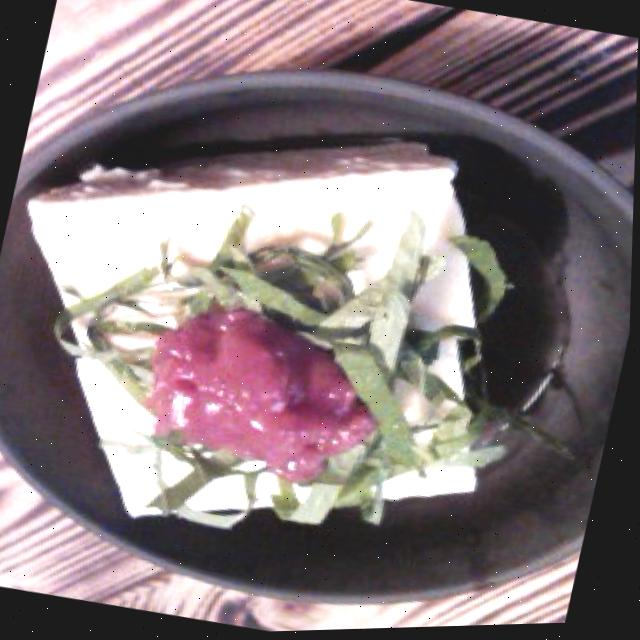豆腐料理: (0, 73, 556, 588)
